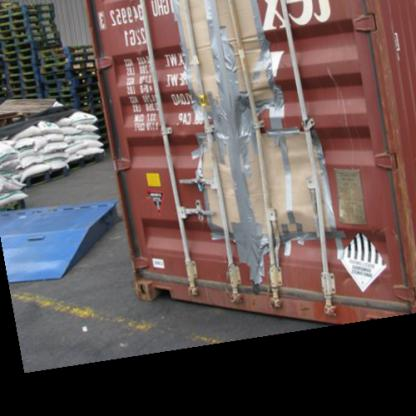Damage: (157, 0, 347, 286)
